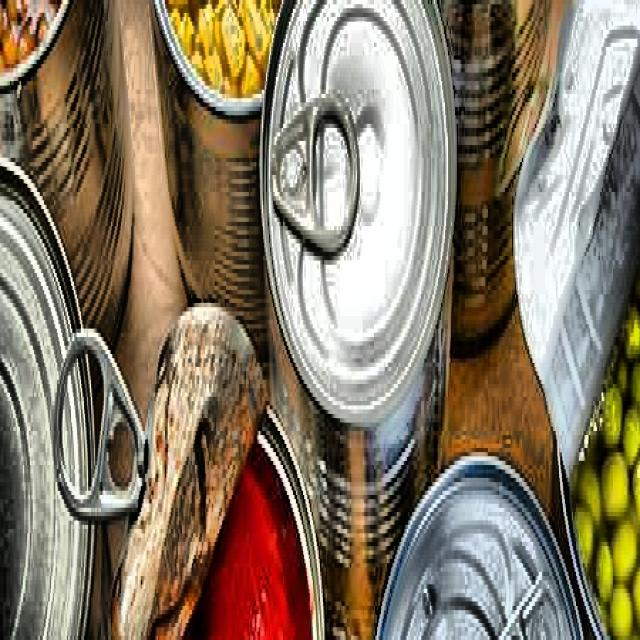metal: (256, 0, 459, 640), (50, 294, 334, 640), (115, 0, 349, 388), (506, 0, 640, 640), (373, 0, 570, 371), (0, 136, 143, 640), (0, 0, 139, 379), (362, 435, 602, 640)
